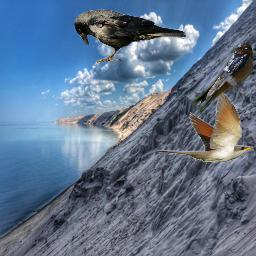Crow: (74, 9, 188, 66)
Cuckoo: (153, 92, 254, 162)
Swallow: (191, 42, 254, 122)
